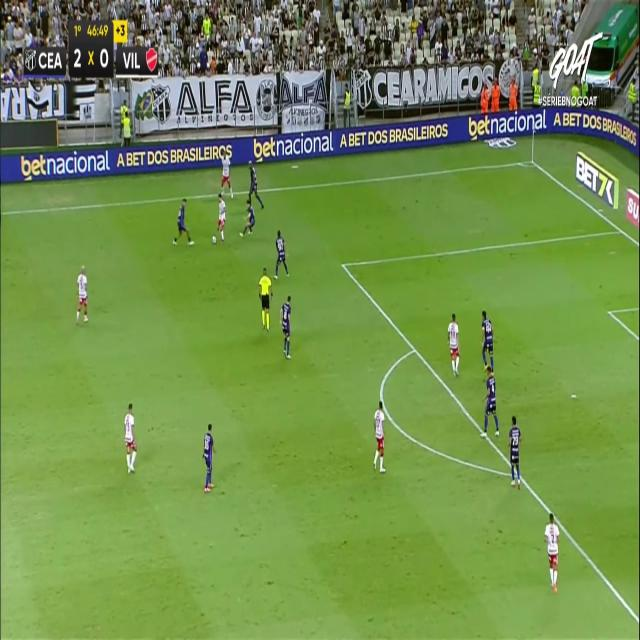goalkeeper: (212, 233, 218, 248)
player: (480, 364, 500, 438), (544, 512, 560, 592), (172, 198, 194, 246), (508, 414, 522, 489), (372, 399, 386, 472), (202, 423, 216, 493), (124, 403, 137, 473), (480, 310, 494, 373), (247, 159, 264, 209), (447, 312, 460, 377), (273, 229, 289, 279), (279, 294, 291, 358), (76, 265, 88, 323), (219, 150, 233, 199), (239, 199, 255, 237), (216, 192, 226, 242)
referee: (258, 267, 273, 331)
